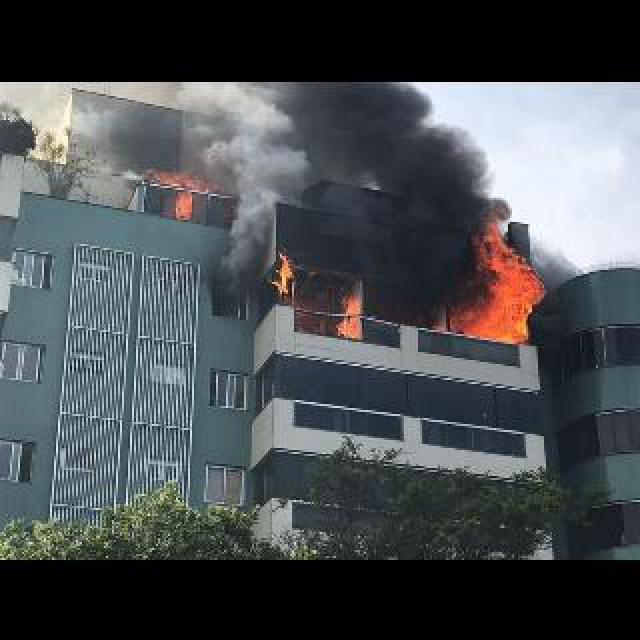fire: (448, 234, 552, 336), (154, 178, 204, 216), (264, 254, 292, 292), (336, 296, 358, 332)
smoke: (264, 80, 544, 244), (50, 80, 200, 180), (536, 246, 596, 334)
